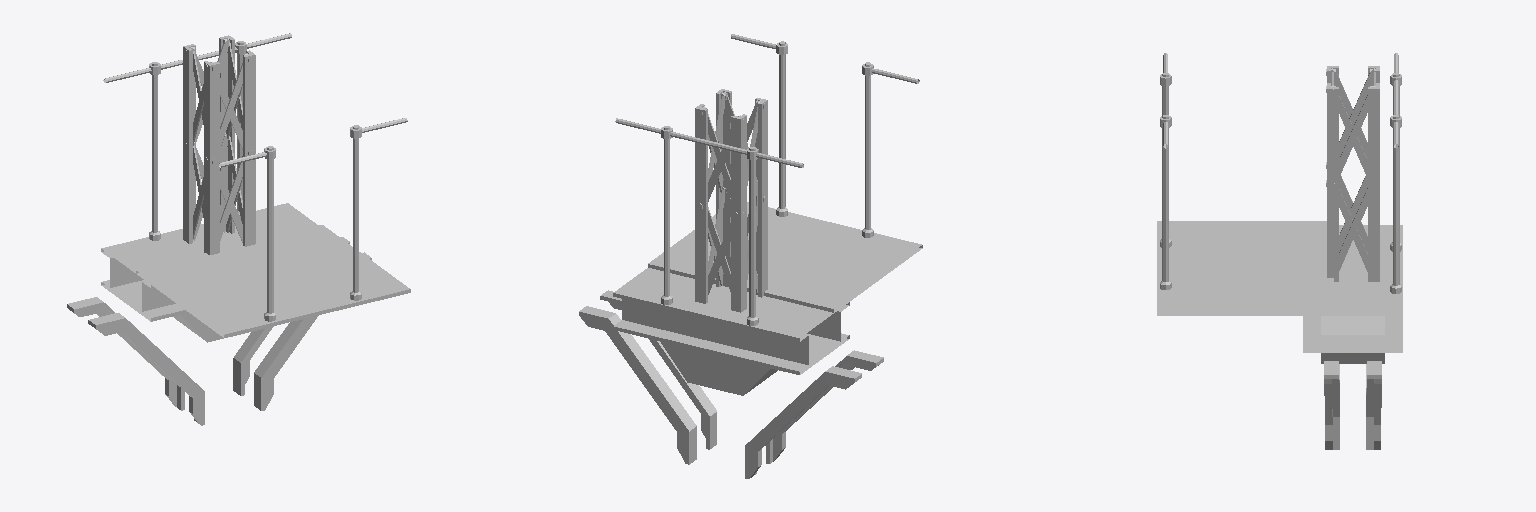
The model's file is lms_signal_gantry_platform_centre_lattice.obj.
3 views of the same model, side by side, from view 1: azimuth 30°, elevation 25°; view 2: azimuth 150°, elevation 25°; view 3: azimuth 270°, elevation 25° (orthographic).
Visible parts, largest first — view 1: platform_centre_lattice_Cube.010; view 2: platform_centre_lattice_Cube.010; view 3: platform_centre_lattice_Cube.010.
Boxes of the visible parts, x1,y1,x2,y2 form: platform_centre_lattice_Cube.010: [67, 33, 410, 425]; platform_centre_lattice_Cube.010: [579, 34, 922, 478]; platform_centre_lattice_Cube.010: [1157, 53, 1402, 449].
Bounding box in the file's own units: 1.48 × 1.83 × 1.14.